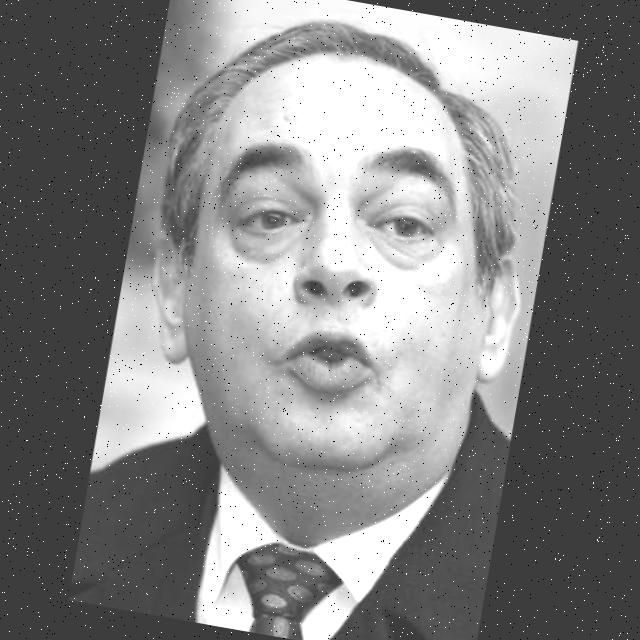face: (118, 24, 569, 534)
